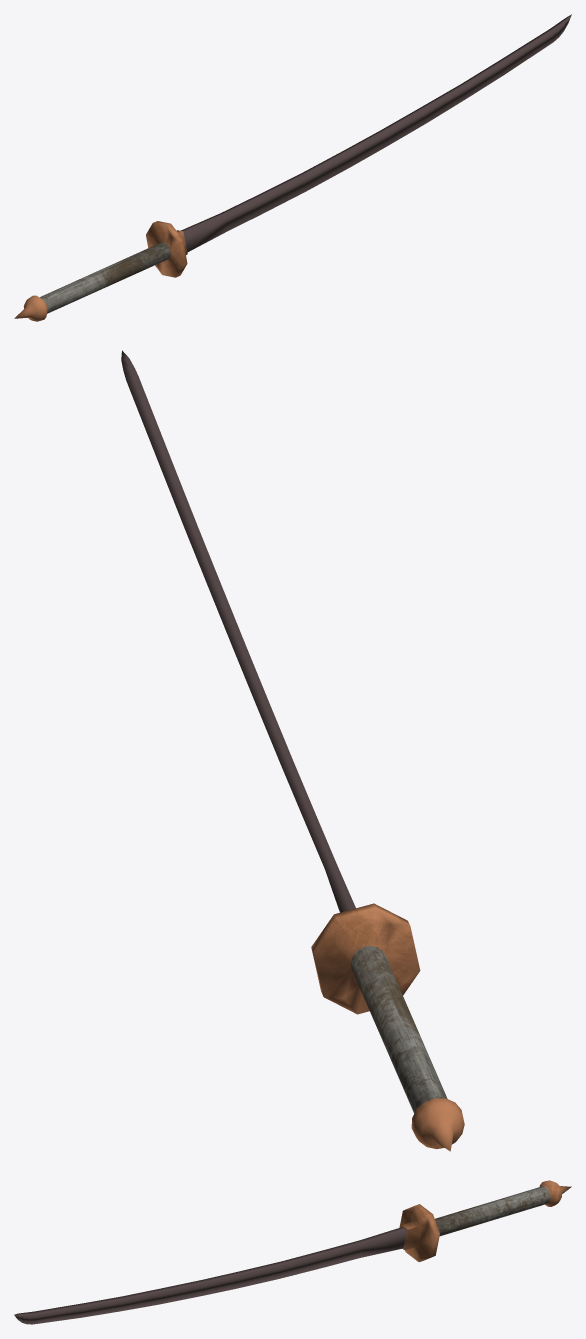
File: Anim_idle_katana_objetos.0020.obj
3 renders of one model, top to bottom at view 1: azimuth 90°, elevation 25°; view 2: azimuth 150°, elevation 25°; view 3: azimuth 270°, elevation 25°, orthographic. The views are drawn at different scales.
Visible parts, largest first — view 1: Katana1; view 2: Katana1; view 3: Katana1.
Part boxes in pixels (x1=…): Katana1: x1=14, y1=14, x2=571, y2=321; Katana1: x1=121, y1=350, x2=464, y2=1151; Katana1: x1=14, y1=1180, x2=571, y2=1324.
Bounding box in the file's own units: 3.59 × 0.8012 × 3.92.
